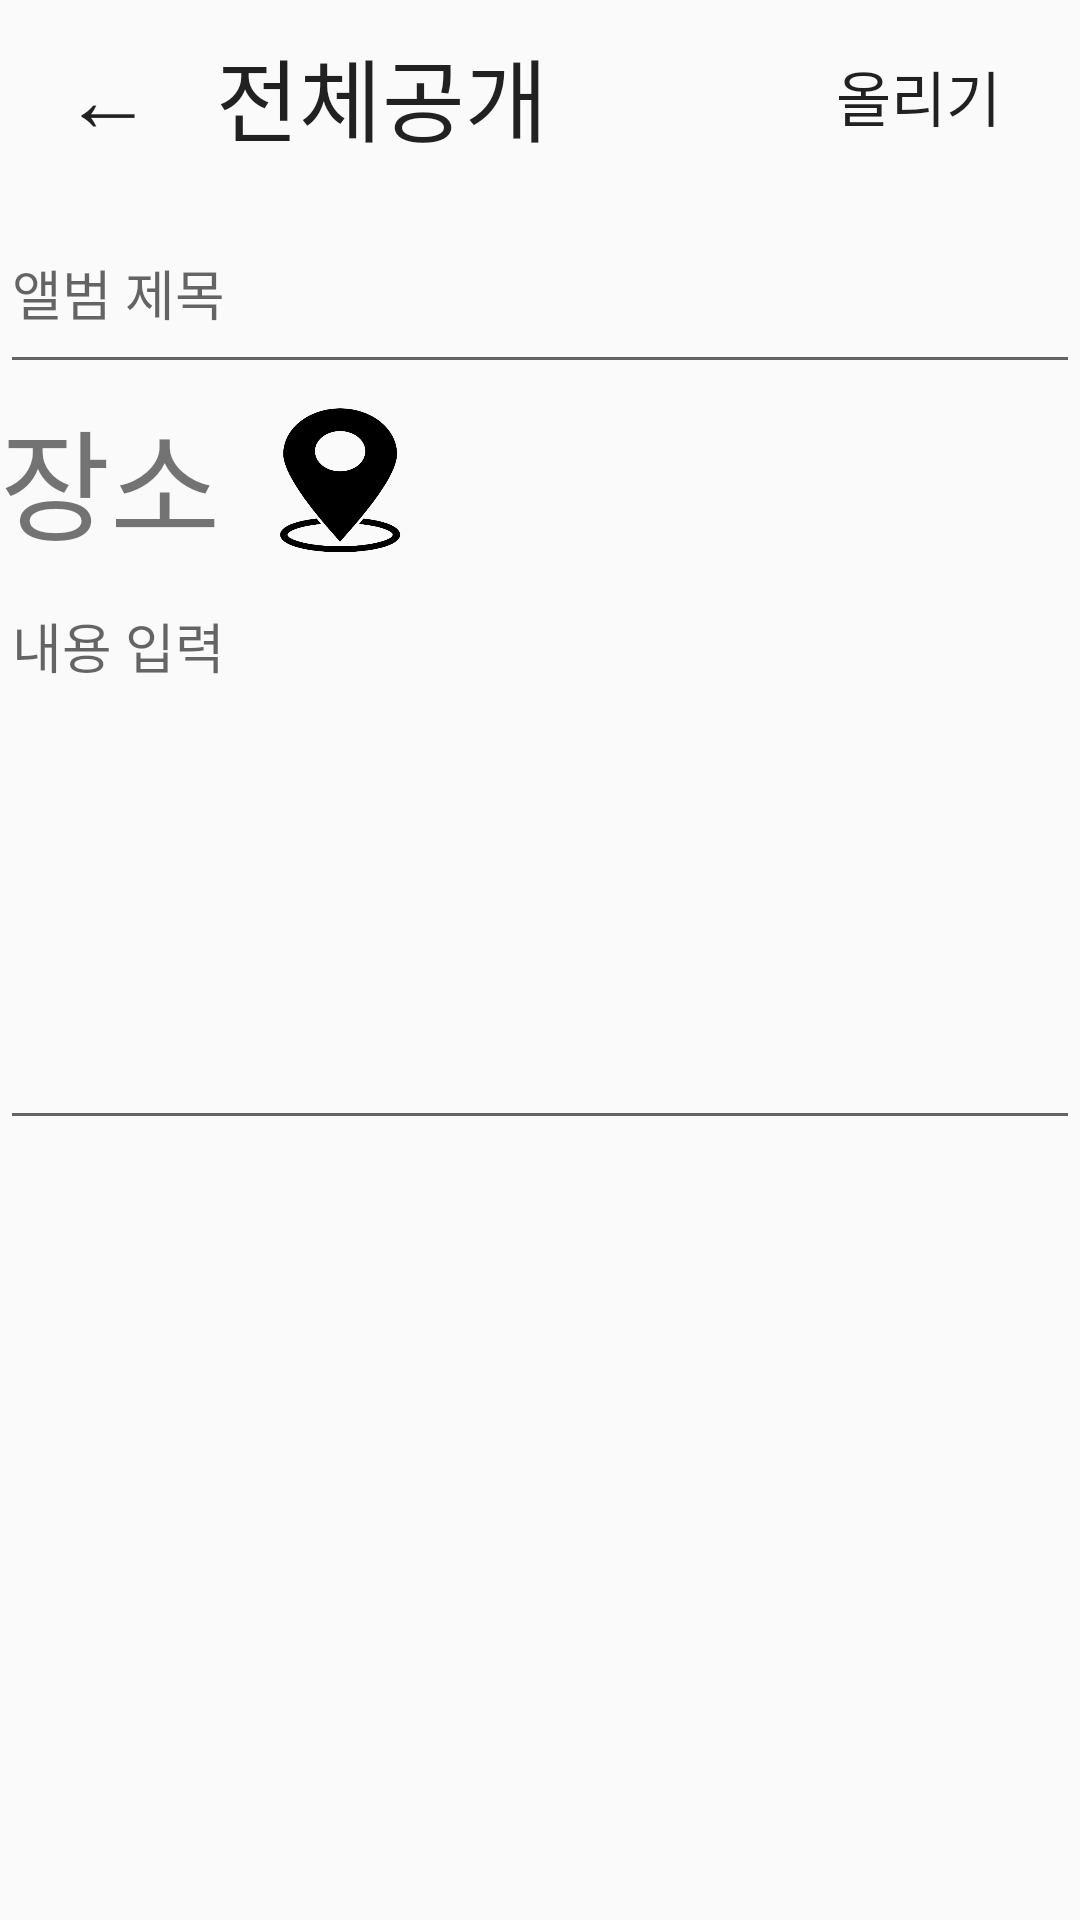

Where icons sit on this 1080w x 1920h app screen, as (x1, y1, x2, y2):
map: (280, 408, 400, 552)
